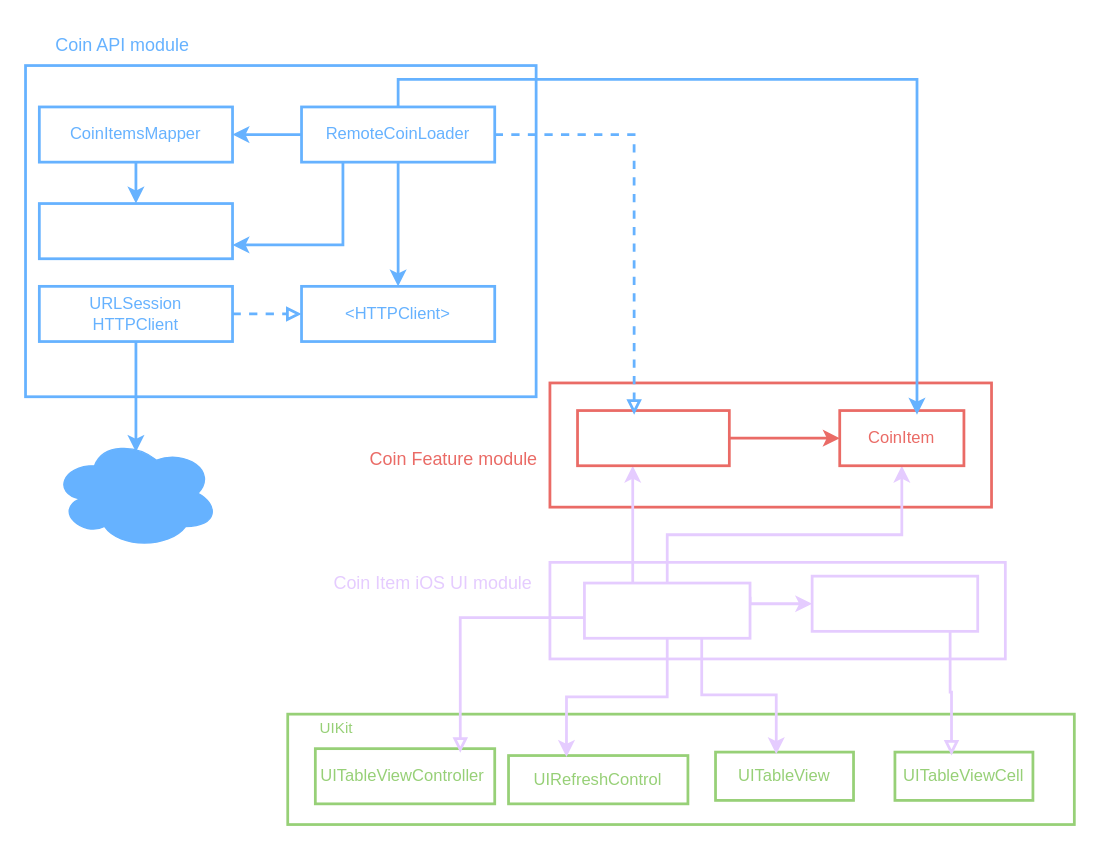
This 1098x849 diagram has some shape labels left out. Each missing label, with the centre of its shape:
<CoinLoader>: the point at 652,437
CoinViewController: the point at 666,610
CryptoCoinCell: the point at 894,603
RemoteCoinItem: the point at 135,230
